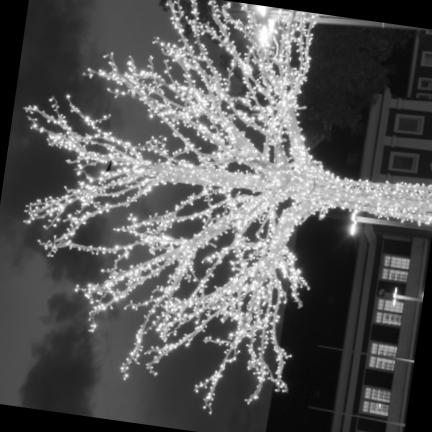Shahed: (105, 160, 111, 170)
